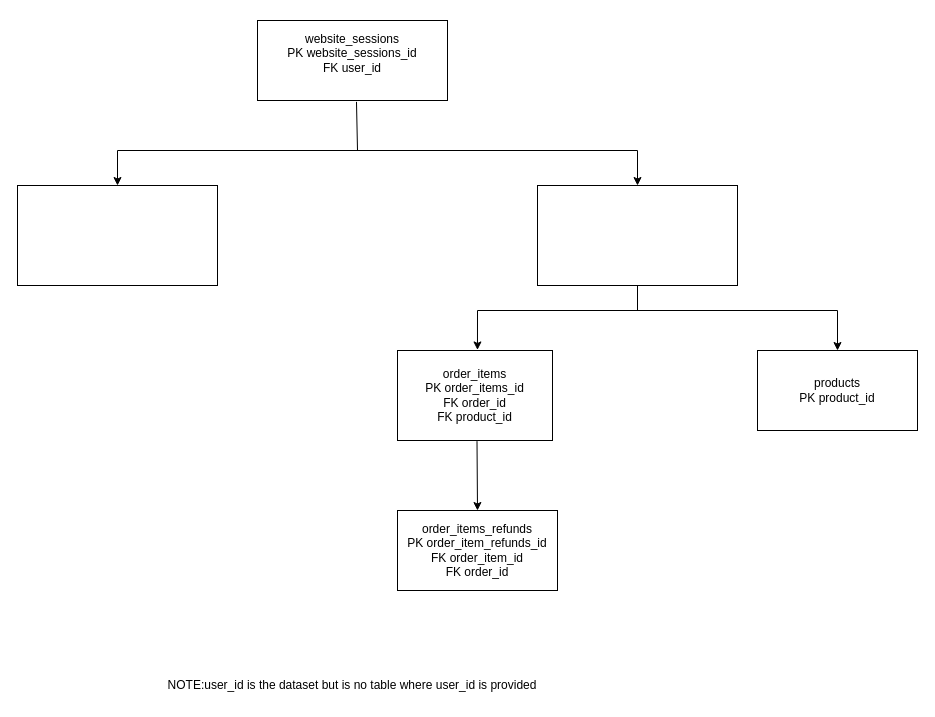
Image size: 935x717. Some labels were removed from this diagram. The shapes that lost their labels are listed below. From the top down, each one's centre as x and y in pixels, then its label:
At pixel 117 235: "website_pageviews PK website_pageview_id FK website_sessions_id".
At pixel 637 235: "orders PK order_id FK website_session_id FK user_id FK primary_product_id".
